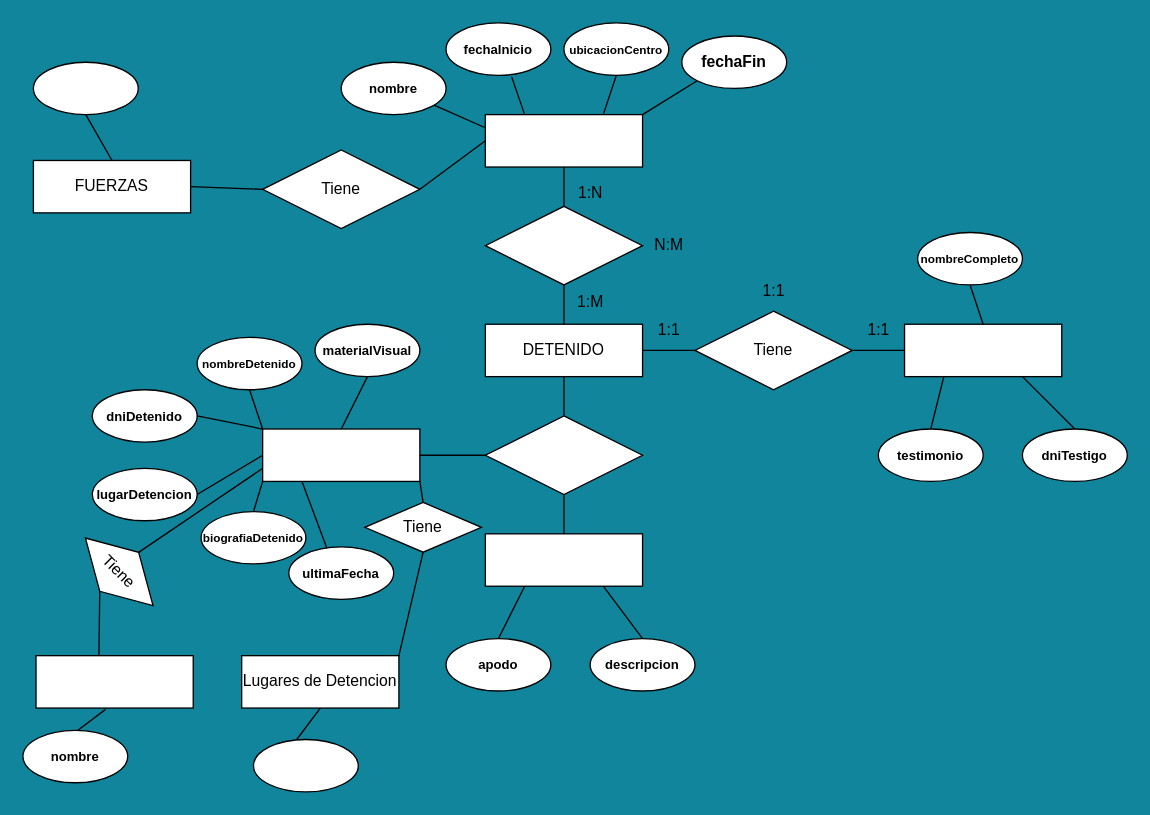
This 1150x815 diagram has some shape labels left out. The box of each missing label's shape, as (x1, y1, x2, y2) in pixels:
CCDTyE: (484, 113, 643, 167)
Contiene: (484, 205, 643, 285)
IDENTIFICADO: (261, 428, 420, 481)
NO IDENTIFICADO: (484, 533, 643, 586)
nombreFuerza: (32, 61, 138, 115)
nombreLugar: (252, 738, 358, 792)
Profesiones: (35, 654, 193, 708)
Puede ser: (484, 415, 643, 495)
TESTIGO: (903, 323, 1062, 377)
